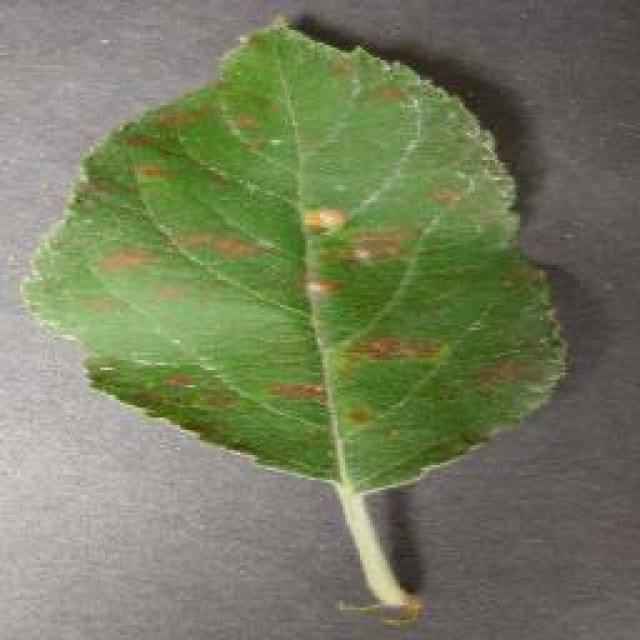apple healthy: (18, 12, 570, 620)
